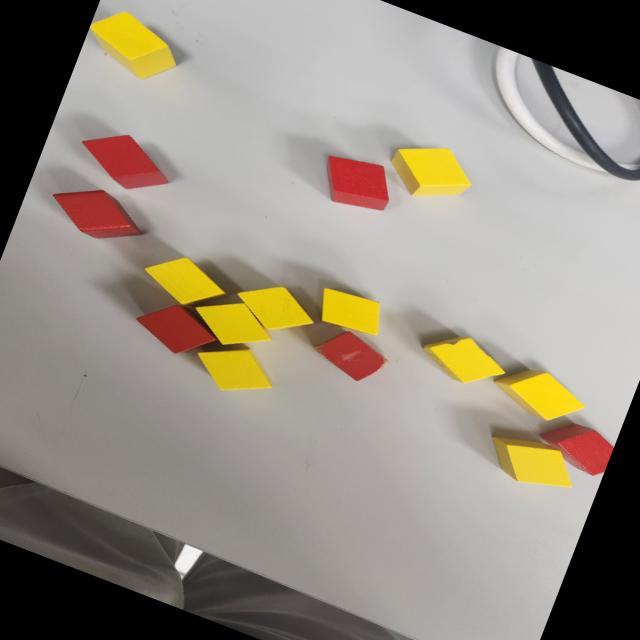broken: (416, 323, 514, 395), (307, 320, 396, 390)
red: (70, 120, 182, 203), (46, 176, 152, 254), (128, 292, 224, 366), (312, 146, 400, 220), (532, 410, 618, 480)
yellow: (80, 2, 188, 91), (380, 131, 480, 214), (488, 356, 592, 433), (482, 426, 583, 499), (188, 334, 282, 408), (185, 288, 280, 361), (139, 246, 233, 318), (230, 274, 322, 346), (314, 283, 388, 340)
